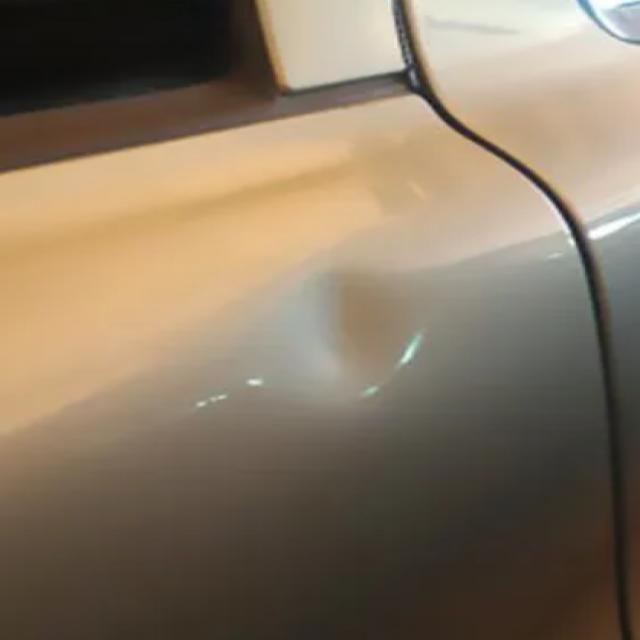dents: (260, 249, 460, 419)
